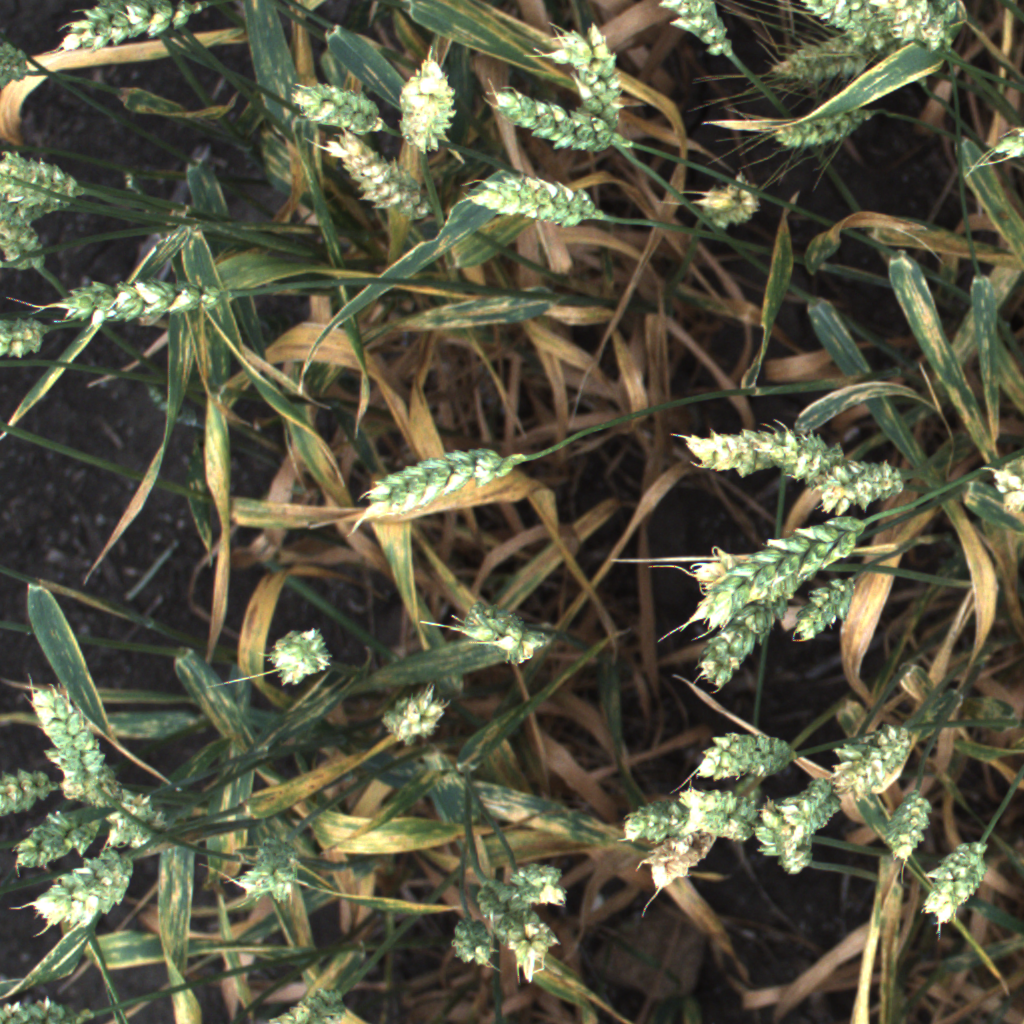wheat_head: (665, 501, 889, 640), (686, 550, 824, 698), (353, 424, 527, 537), (317, 123, 445, 229), (22, 673, 130, 798), (481, 77, 631, 163), (19, 843, 149, 935), (528, 16, 635, 126), (467, 876, 568, 987), (762, 753, 873, 846), (47, 0, 200, 66), (611, 779, 764, 841), (820, 721, 926, 809), (676, 419, 824, 481), (678, 719, 808, 786), (5, 799, 118, 875), (272, 73, 402, 139), (48, 275, 222, 323), (445, 597, 557, 671), (465, 170, 603, 229), (916, 831, 997, 929), (390, 47, 457, 159), (0, 142, 91, 222), (223, 837, 318, 909), (787, 572, 865, 653), (760, 36, 883, 85), (869, 0, 970, 58), (781, 442, 904, 488), (680, 172, 772, 233), (758, 795, 824, 879), (788, 0, 898, 48), (878, 784, 940, 868), (983, 434, 1024, 561), (0, 193, 56, 284), (649, 0, 740, 54), (810, 475, 924, 518), (500, 851, 577, 913), (643, 826, 715, 891), (260, 979, 355, 1024), (385, 682, 452, 745), (442, 911, 501, 980), (672, 773, 762, 818), (270, 627, 335, 684), (775, 109, 879, 144), (0, 984, 89, 1024), (0, 765, 63, 819), (0, 308, 56, 361), (108, 799, 166, 846)
